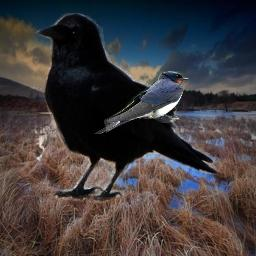Crow: (33, 11, 224, 203)
Swallow: (94, 71, 189, 137)
